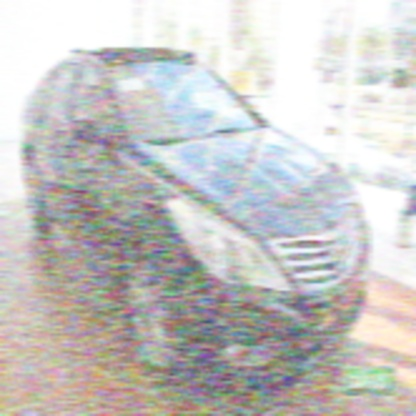Vehicle: (17, 43, 372, 398)
